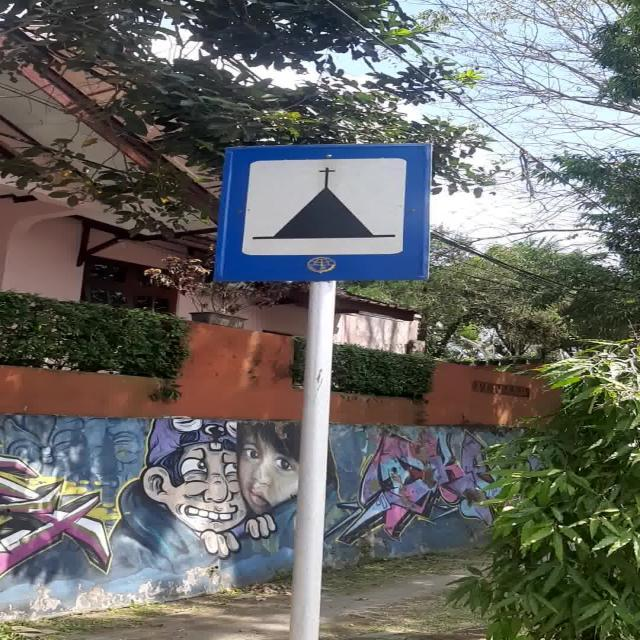Gereja: (215, 142, 430, 280)
